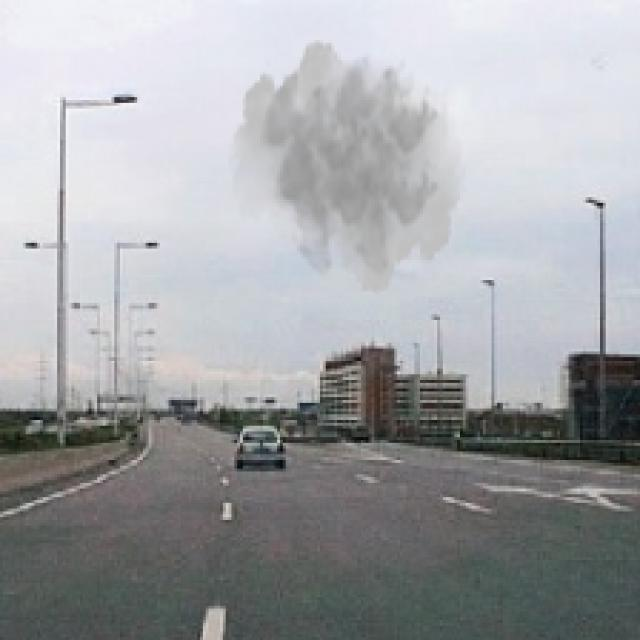smoke: (228, 37, 466, 297)
